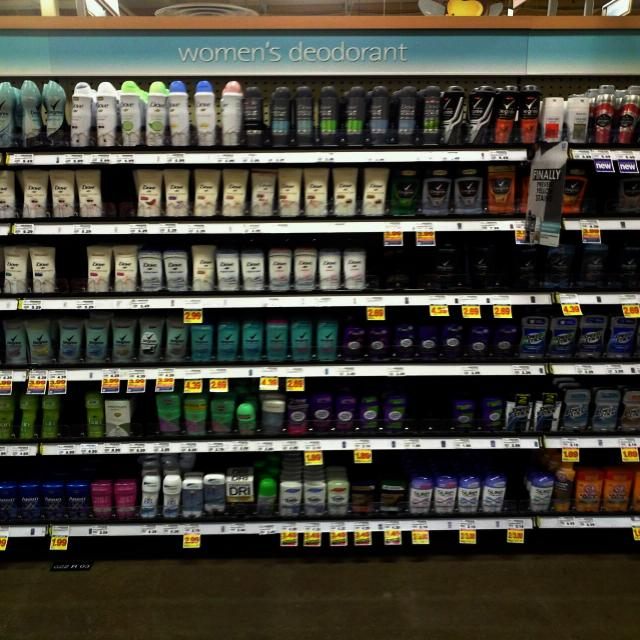empty_space: (414, 384, 452, 434), (58, 248, 84, 296), (105, 171, 128, 217), (506, 465, 526, 513), (135, 396, 153, 432), (66, 393, 80, 434)
